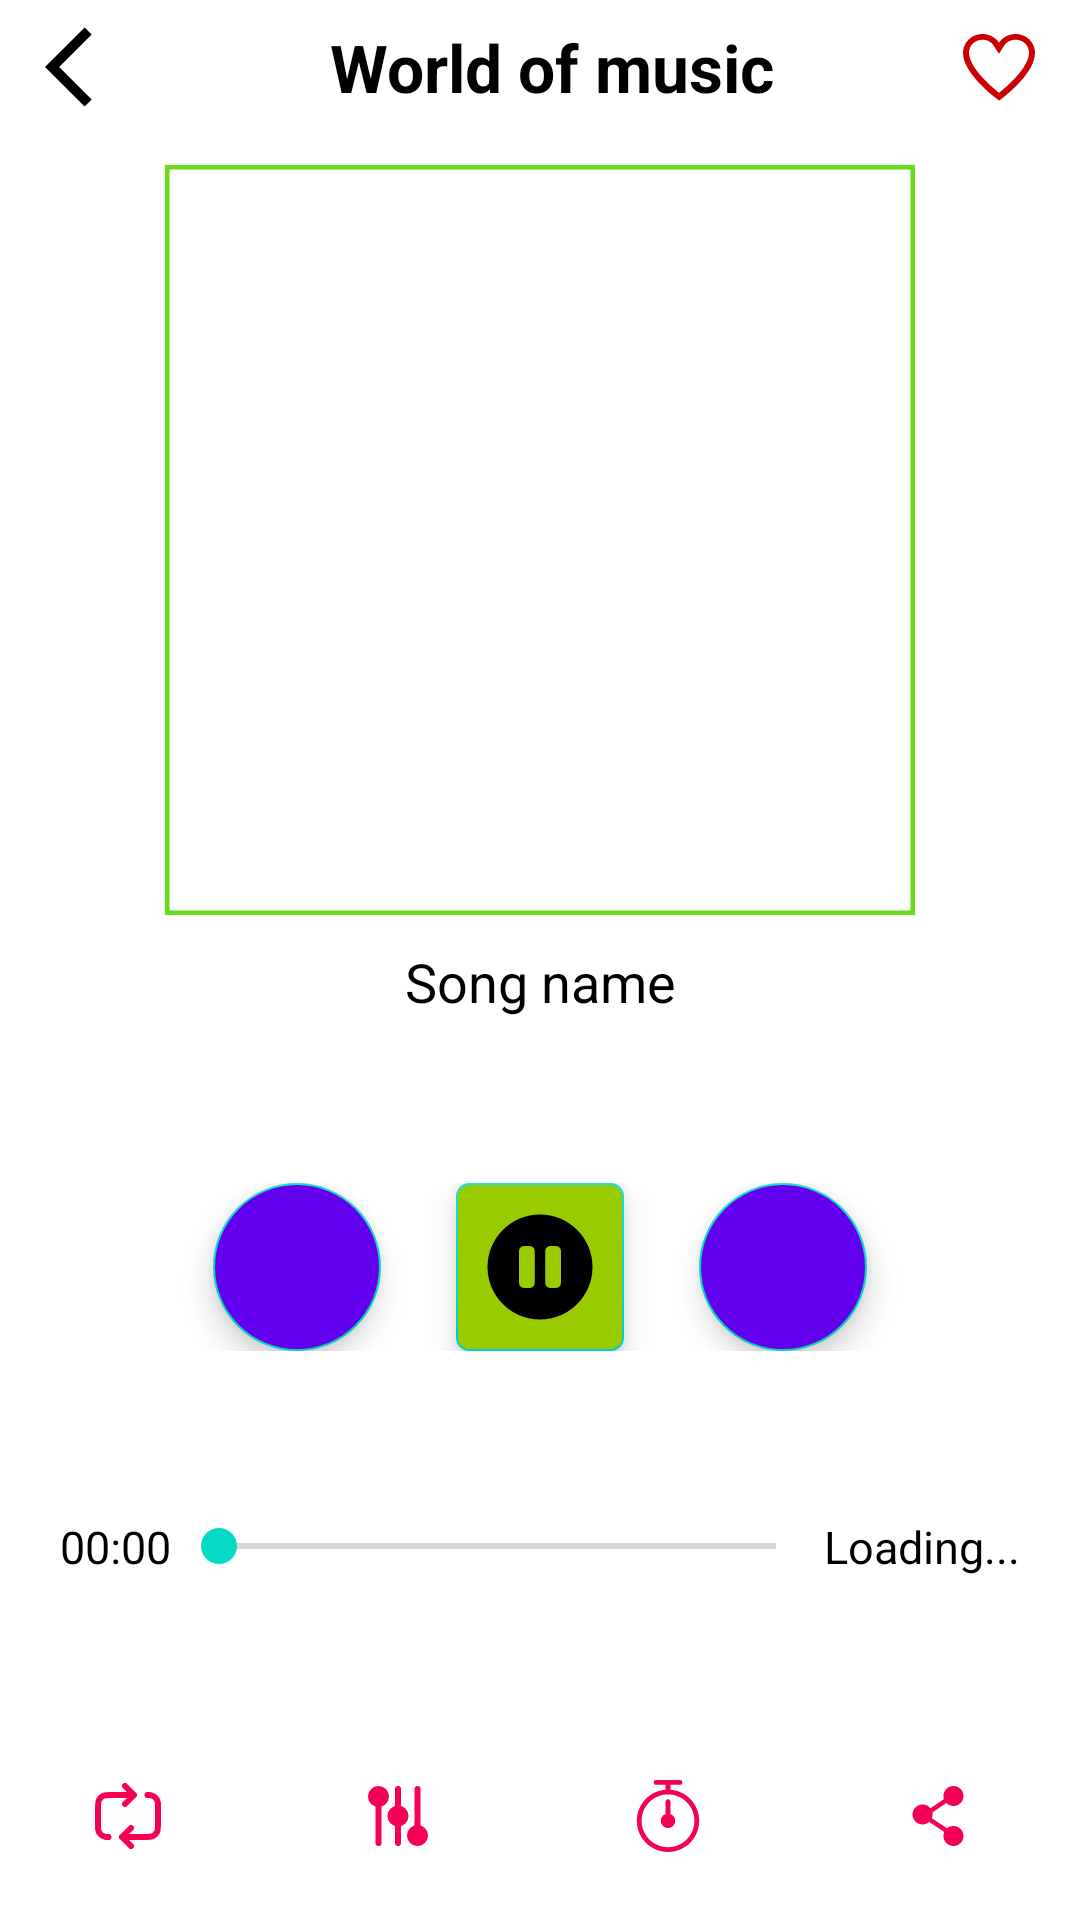

Screen size 1080x1920. Icon name, then its box in pixels as {"x1": x1, "y1": y1, "x2": x2, "y2": y2}:
Back: {"x1": 45, "y1": 27, "x2": 92, "y2": 107}
Equalizer: {"x1": 368, "y1": 1786, "x2": 428, "y2": 1846}
Favoritos: {"x1": 963, "y1": 34, "x2": 1035, "y2": 101}
pause: {"x1": 456, "y1": 1183, "x2": 624, "y2": 1351}
Repeat: {"x1": 95, "y1": 1783, "x2": 161, "y2": 1849}
Share: {"x1": 912, "y1": 1786, "x2": 964, "y2": 1846}
Timer: {"x1": 636, "y1": 1780, "x2": 700, "y2": 1852}
